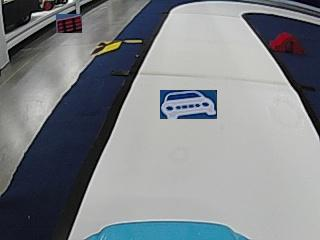bridge: (270, 31, 302, 53)
